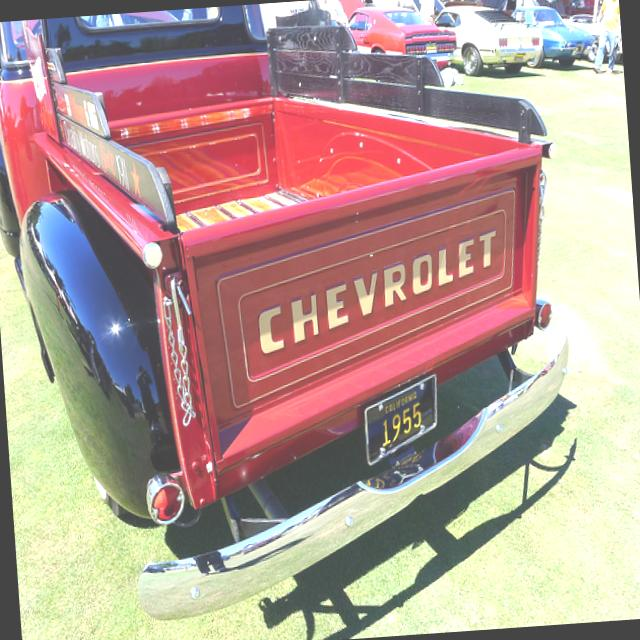Vehicle: (0, 0, 586, 631), (434, 0, 539, 75), (346, 1, 458, 64), (510, 1, 597, 72), (564, 12, 604, 64)
